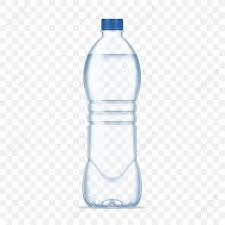available: (75, 13, 157, 213)
